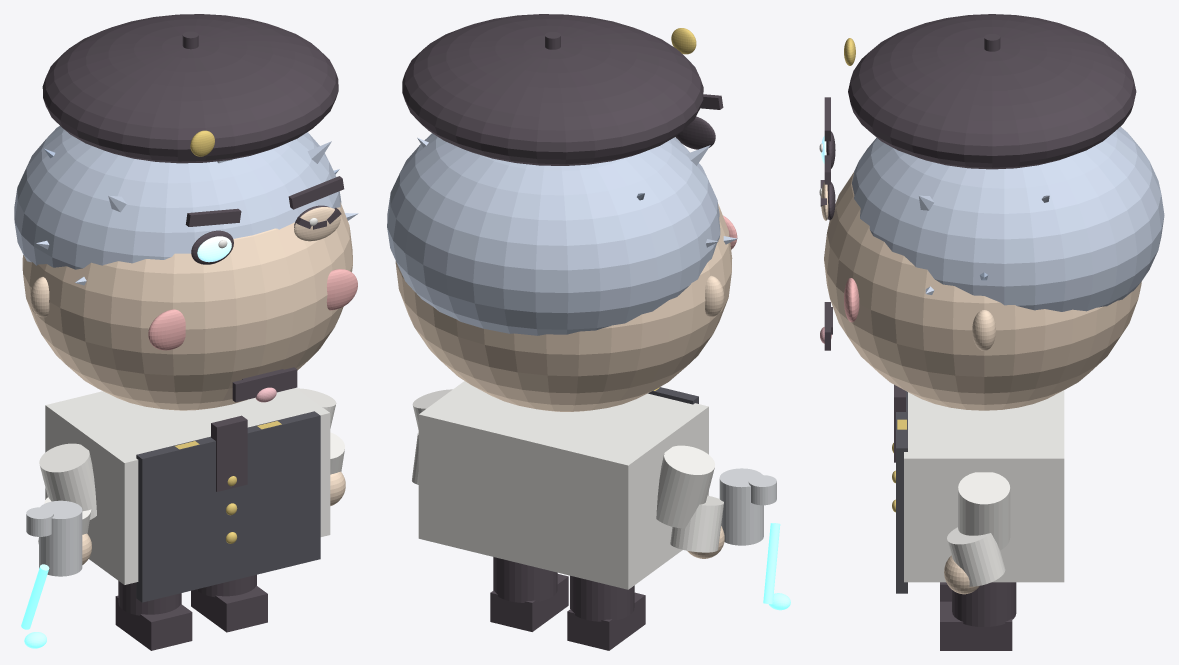
Rendered from bartender.glb.
The picture shows the model from 3 angles, left to right: view 1: azimuth 30°, elevation 25°; view 2: azimuth 150°, elevation 25°; view 3: azimuth 270°, elevation 25°; orthographic projection.
Parts seen in each view (by area): view 1: Head, Beret, HairCap, Apron, Coat, UpperArm_L, Shaker, Shoe_L, Shoe_R, Tie, Cheek_L, Leg_L (+12 smaller); view 2: HairCap, Coat, Beret, Head, UpperArm_L, Shaker, Leg_L, Leg_R, Shoe_R, Shoe_L, Forearm_L, EyeSocket_L (+3 smaller); view 3: HairCap, Beret, Head, Coat, UpperArm_R, Leg_R, Forearm_R, Shoe_R, Apron, Ear_R, Hand_R, Cheek_R.
Part boxes in pixels (x1=…): Head: x1=22, y1=202, x2=352, y2=410; Beret: x1=42, y1=14, x2=338, y2=163; HairCap: x1=14, y1=126, x2=341, y2=269; Apron: x1=136, y1=411, x2=320, y2=602; Coat: x1=45, y1=388, x2=330, y2=584; UpperArm_L: x1=39, y1=443, x2=96, y2=519; Shaker: x1=39, y1=500, x2=82, y2=576; Shoe_L: x1=115, y1=595, x2=192, y2=650; Shoe_R: x1=191, y1=585, x2=267, y2=632; Tie: x1=211, y1=415, x2=247, y2=491; Cheek_L: x1=148, y1=309, x2=185, y2=350; Leg_L: x1=118, y1=581, x2=181, y2=615; HairCap: x1=387, y1=133, x2=720, y2=335; Coat: x1=418, y1=381, x2=708, y2=589; Beret: x1=402, y1=14, x2=703, y2=165; Head: x1=395, y1=204, x2=732, y2=411; UpperArm_L: x1=656, y1=445, x2=714, y2=528; Shaker: x1=719, y1=468, x2=763, y2=545; Leg_L: x1=570, y1=575, x2=634, y2=621; Leg_R: x1=493, y1=557, x2=557, y2=602; Shoe_R: x1=490, y1=574, x2=568, y2=631; Shoe_L: x1=567, y1=592, x2=645, y2=650; Forearm_L: x1=670, y1=495, x2=723, y2=552; EyeSocket_L: x1=675, y1=116, x2=715, y2=149; HairCap: x1=852, y1=127, x2=1164, y2=311; Beret: x1=848, y1=14, x2=1136, y2=169; Head: x1=824, y1=172, x2=1141, y2=410; Coat: x1=904, y1=390, x2=1064, y2=582; UpperArm_R: x1=958, y1=472, x2=1010, y2=550; Leg_R: x1=952, y1=582, x2=1016, y2=626; Forearm_R: x1=947, y1=527, x2=1005, y2=586; Shoe_R: x1=940, y1=601, x2=1012, y2=650; Apron: x1=896, y1=391, x2=907, y2=593; Ear_R: x1=972, y1=310, x2=995, y2=350; Hand_R: x1=944, y1=555, x2=979, y2=594; Cheek_R: x1=844, y1=278, x2=859, y2=322.
Size of the model in its own units: 1.25 by 2 by 1.06.
